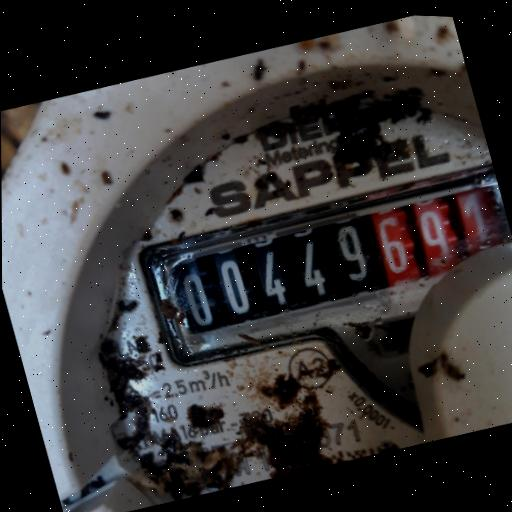0: (199, 244, 262, 329), (165, 255, 222, 338)
1: (449, 184, 500, 259)
4: (240, 233, 302, 319), (280, 224, 337, 308)
6: (365, 203, 422, 286)
9: (316, 212, 385, 299), (407, 193, 464, 274)
border_water_meter_number: (135, 151, 512, 383)
